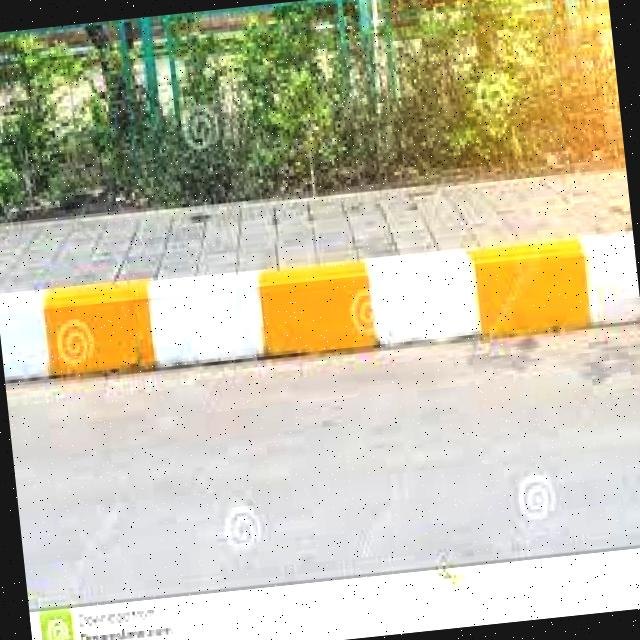curb: (1, 236, 640, 385)
